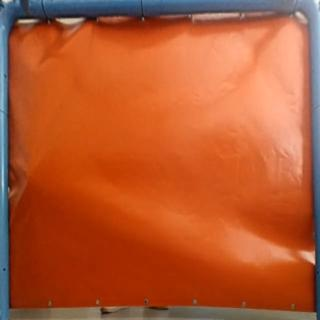Hit-hRxx: (24, 168, 36, 186)
